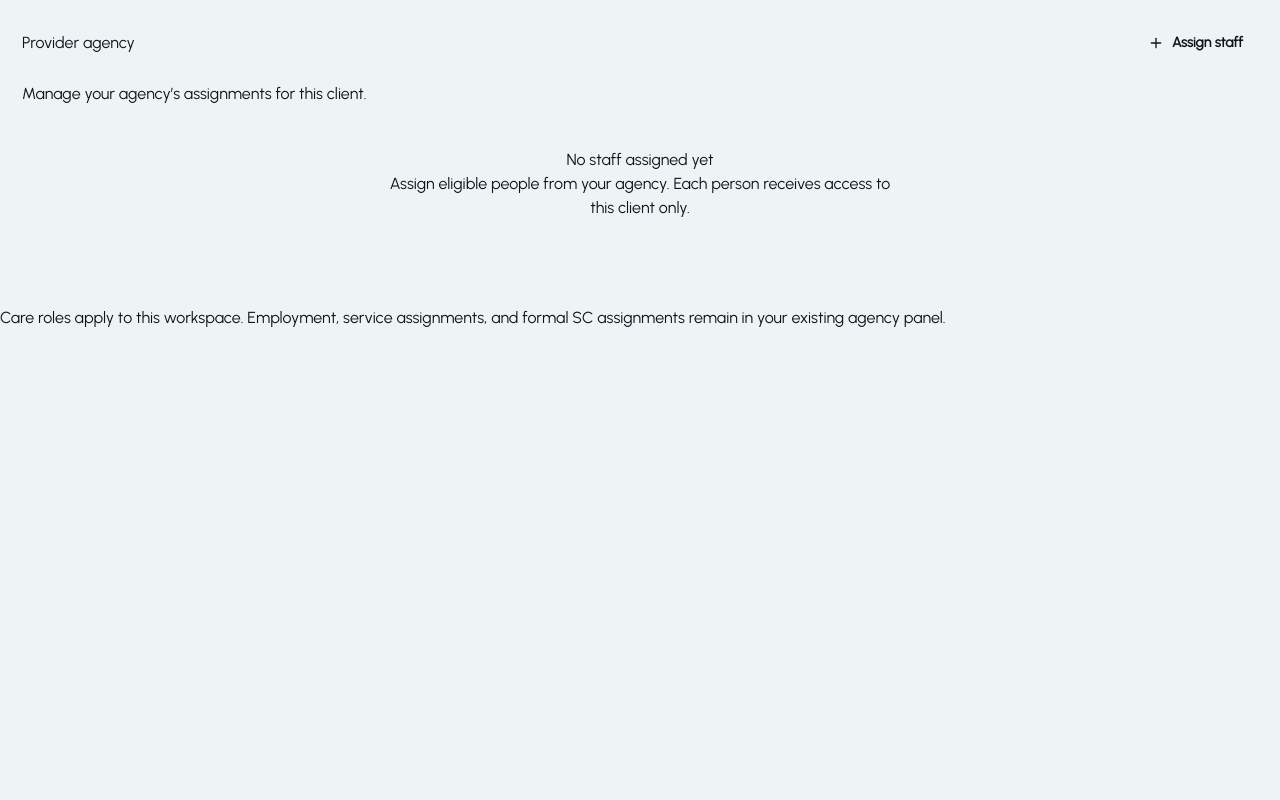
Test case: retains a conflicting draft and rechecks permissions without silently increasing or retaining disallowed access
The image size is (1280, 800).
Later steps or results of the test are not shown.
Click the button "Assign staff" at point(1196, 43), box [1133, 22, 1258, 64]
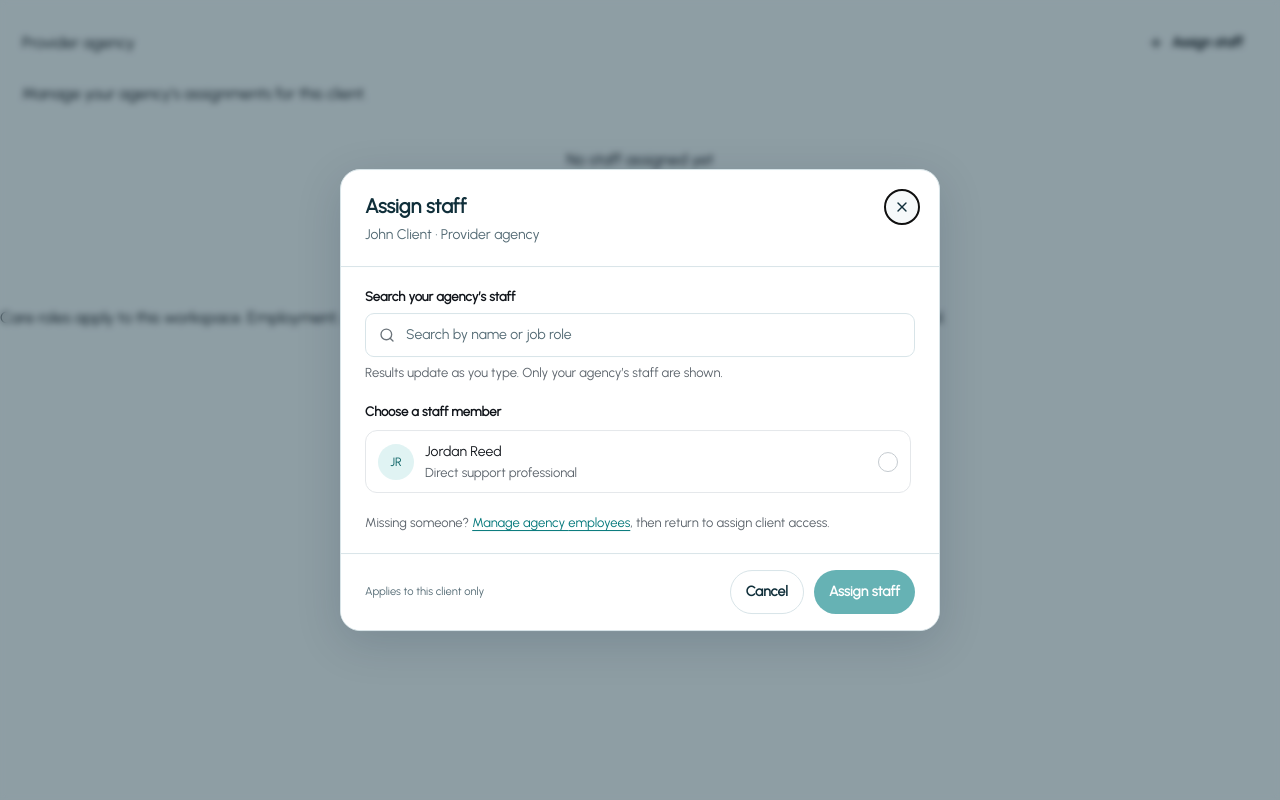
Click the radio button with aria-label "Select Jordan Reed" at point(888, 462), box [878, 452, 898, 472]
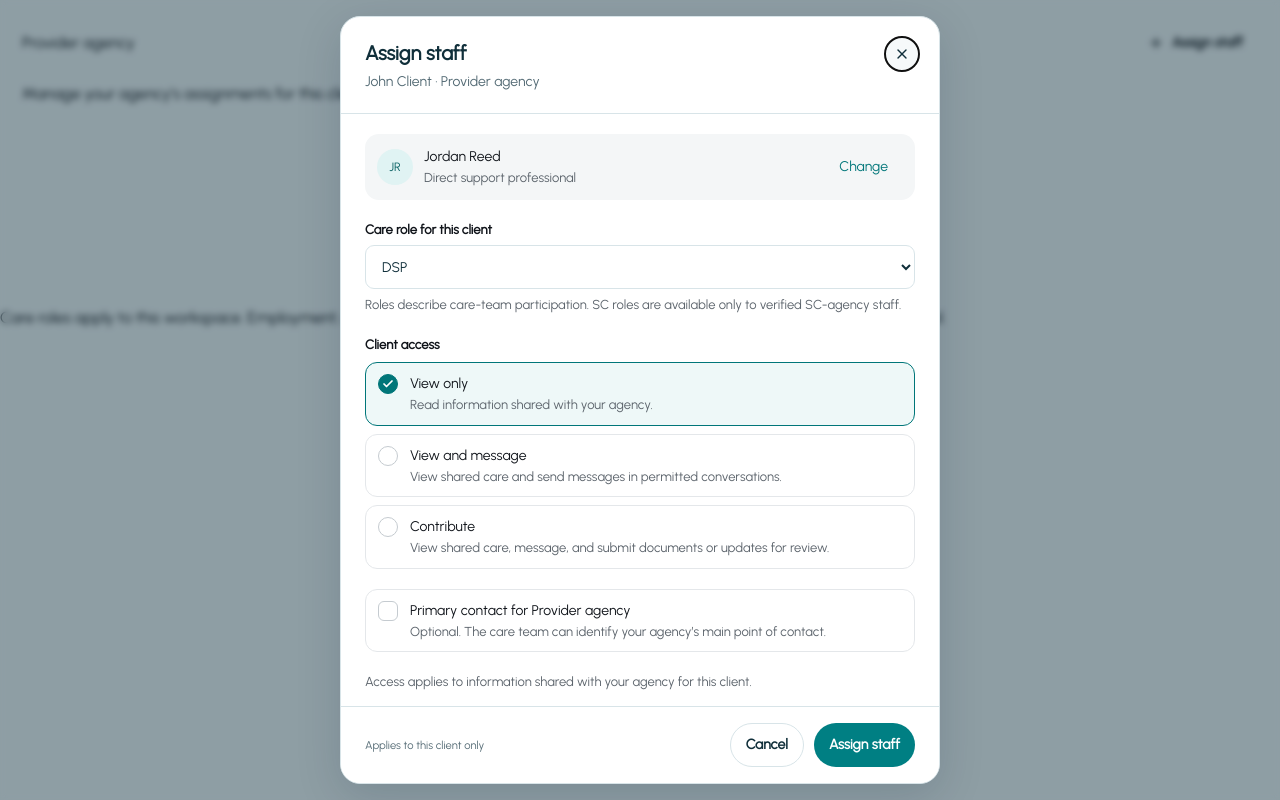
Click the radio button labelled "Contribute" at point(388, 527), box [378, 517, 398, 537]
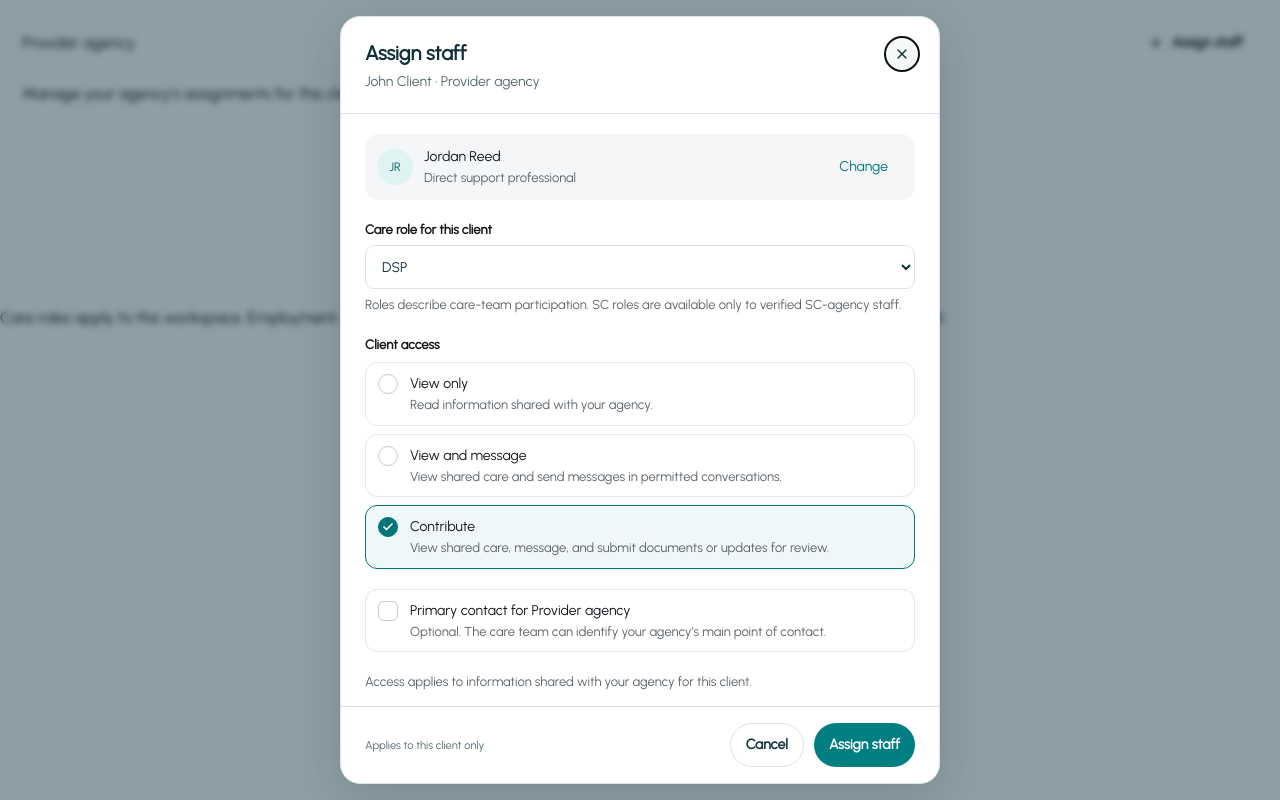
Click the button "Assign staff" at point(864, 745), box [814, 723, 915, 767]
(page scrolled)
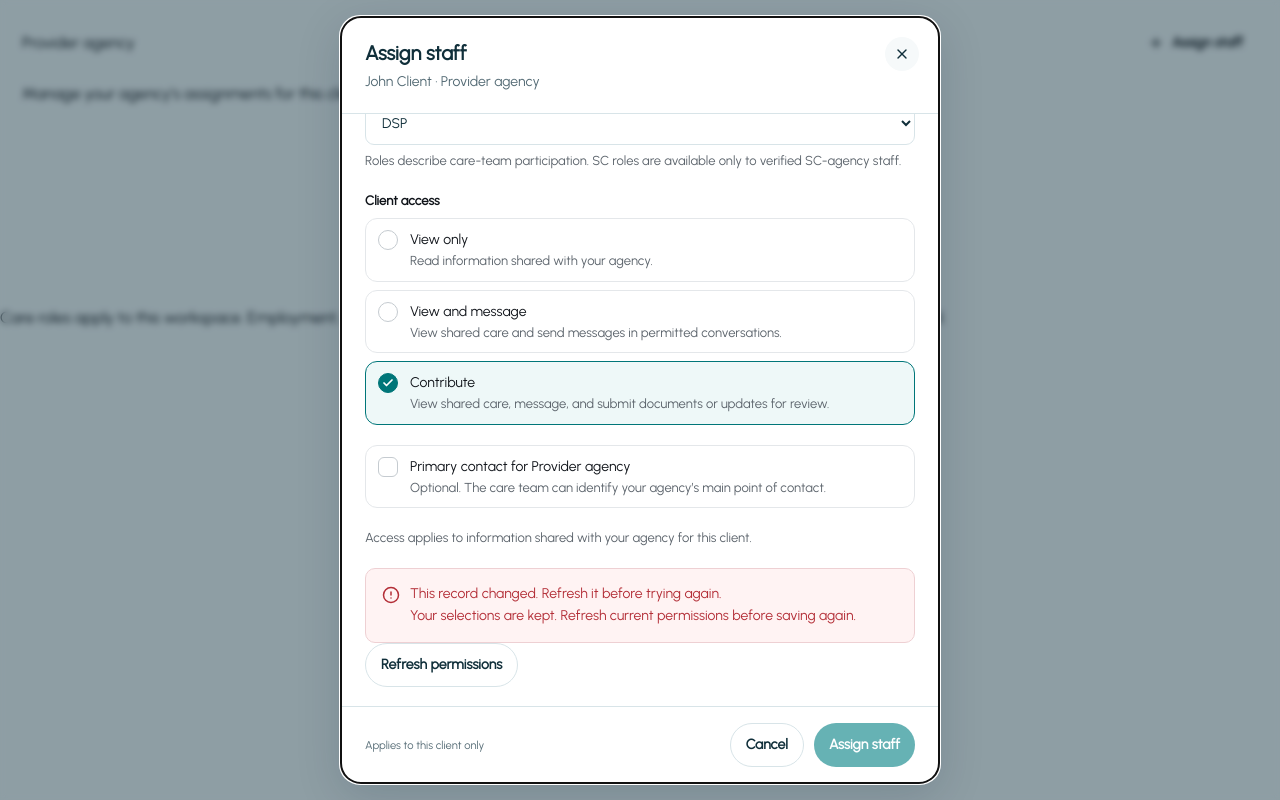
Expected: the radio button labelled "Contribute" is checked, [378, 373, 398, 393]
Expected: the button "Assign staff" is disabled, [814, 723, 915, 767]
Click the button "Refresh permissions" at point(442, 665), box [365, 643, 518, 687]
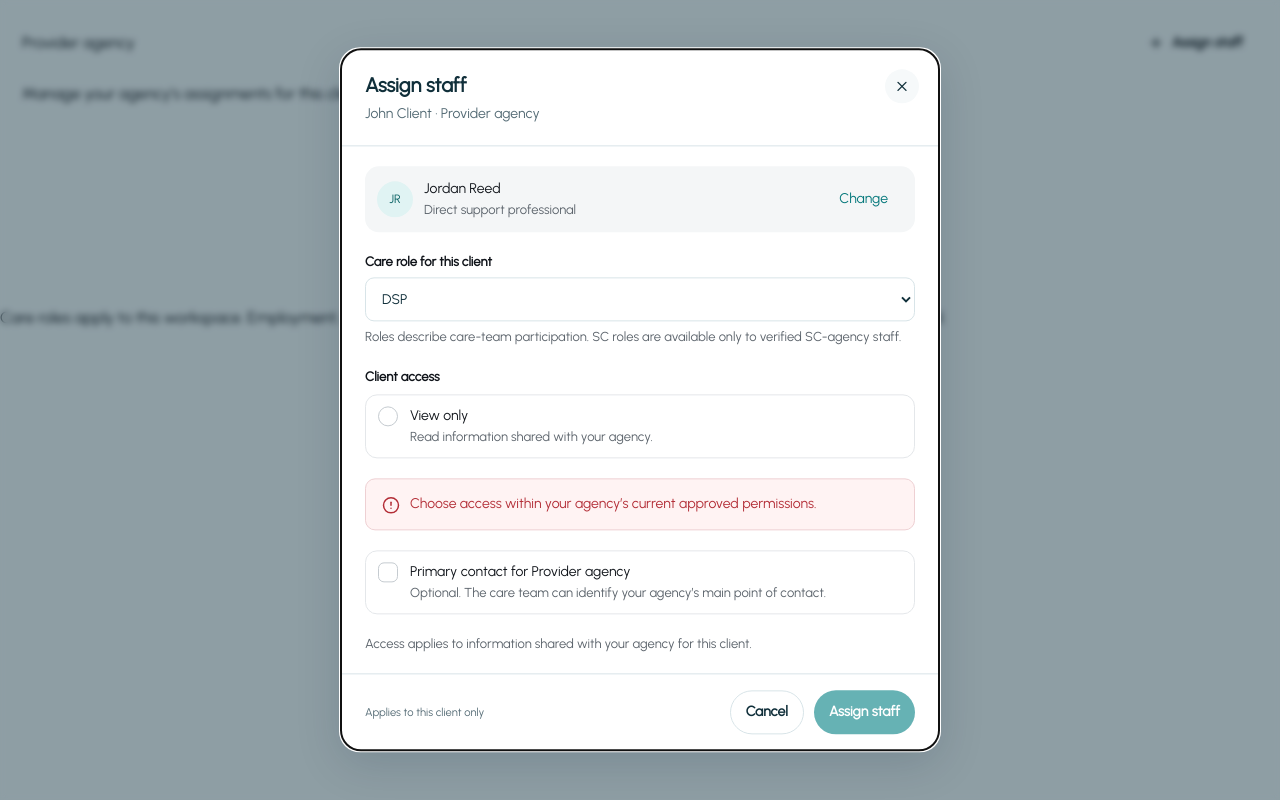
Expected: the button "Assign staff" is disabled, [814, 691, 915, 735]
Expected: the button "Refresh permissions" is gone
